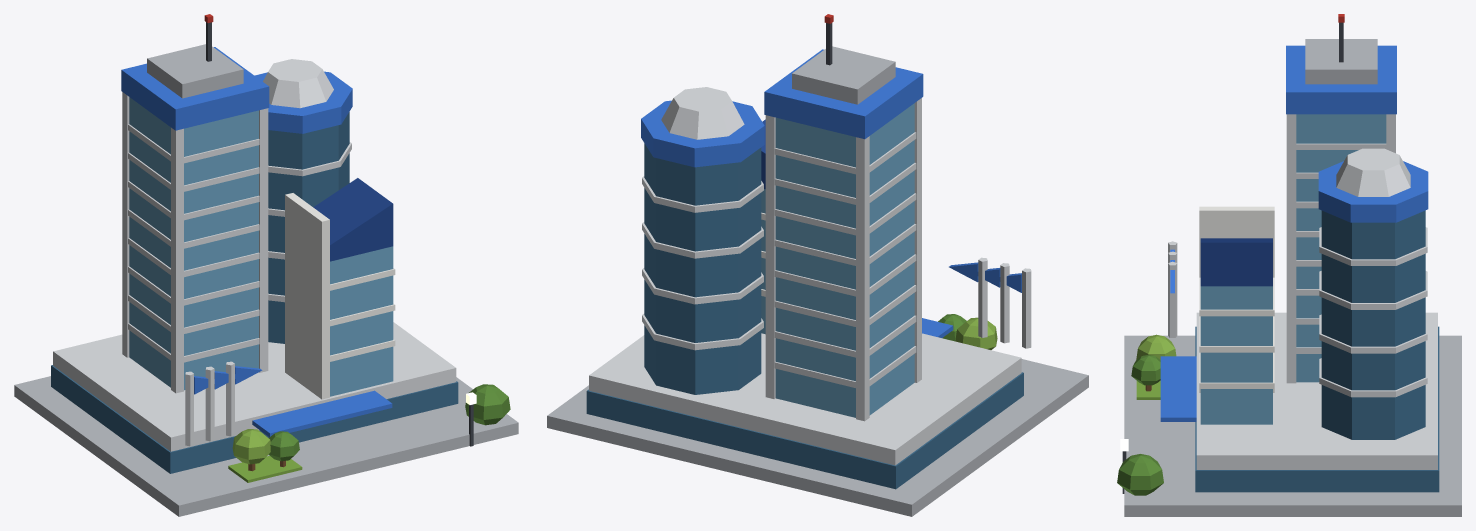
Rendered from city_center_5.glb.
3 views of the same model, side by side, from view 1: azimuth 30°, elevation 25°; view 2: azimuth 150°, elevation 25°; view 3: azimuth 270°, elevation 25° (orthographic). The views are drawn at different scales.
Parts seen in each view (by area): view 1: city_center_5; view 2: city_center_5; view 3: city_center_5.
Boxes of the visible parts, box(x1,y1,x2,y2) form: city_center_5: box(14, 14, 518, 516); city_center_5: box(547, 14, 1088, 516); city_center_5: box(1117, 14, 1461, 516).
Bounding box in the file's own units: 0.5 × 0.549 × 0.4292.
